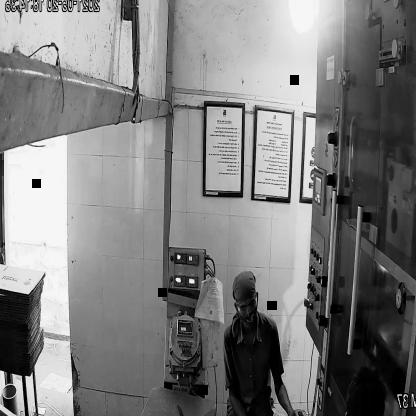goggles: (235, 288, 260, 319)
